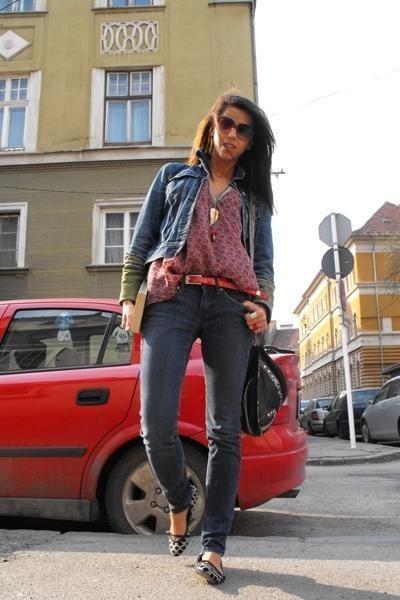bag: (238, 348, 287, 435)
jacket: (119, 145, 274, 305)
pants: (129, 278, 291, 528)
shirt: (139, 180, 251, 303)
shoe: (173, 516, 202, 545)
